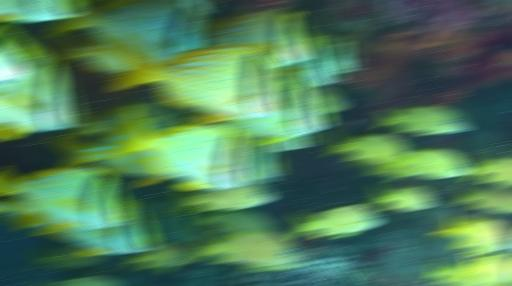Fish: (110, 38, 287, 120), (111, 105, 254, 188), (45, 0, 210, 62), (48, 123, 178, 186), (0, 168, 127, 227), (0, 47, 80, 137), (33, 201, 156, 254), (220, 82, 331, 139), (3, 48, 80, 129), (207, 11, 316, 67), (188, 232, 299, 267), (273, 39, 342, 87), (0, 98, 79, 138), (433, 214, 508, 255), (290, 205, 379, 239), (323, 130, 410, 164), (171, 183, 272, 212), (51, 36, 132, 72), (132, 200, 199, 241), (375, 108, 468, 134), (385, 148, 468, 177), (64, 105, 128, 139), (239, 135, 282, 183), (365, 182, 434, 211), (30, 243, 109, 268), (125, 243, 190, 273), (0, 33, 39, 83), (194, 209, 275, 233), (457, 250, 511, 285), (314, 34, 359, 74), (0, 0, 83, 21), (453, 183, 511, 212), (0, 198, 54, 229), (463, 153, 511, 185), (350, 160, 415, 181), (425, 260, 478, 285), (308, 86, 347, 114), (267, 135, 315, 151), (58, 276, 119, 285), (195, 0, 216, 15), (503, 281, 511, 285)
